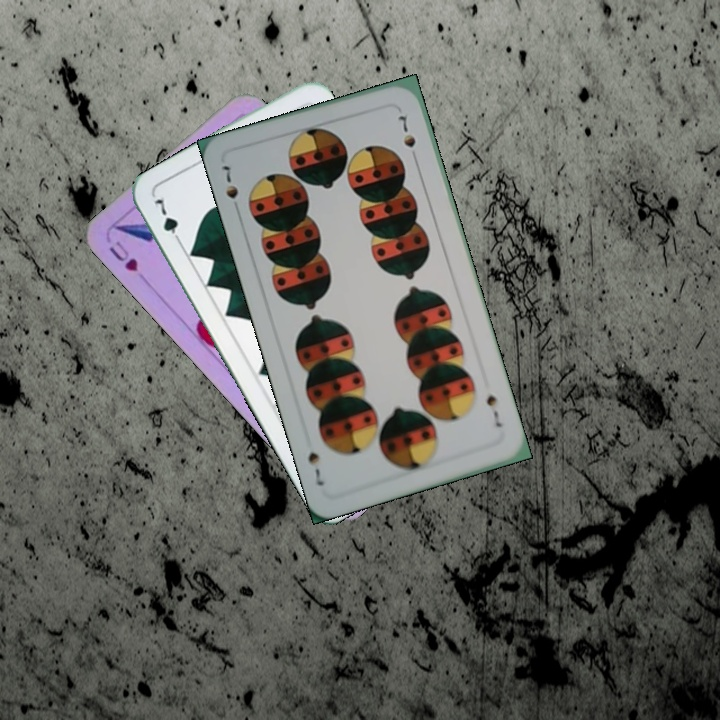G7: (150, 192, 185, 248)
HU: (105, 237, 141, 274)
S7: (217, 161, 243, 216), (482, 391, 505, 430)
